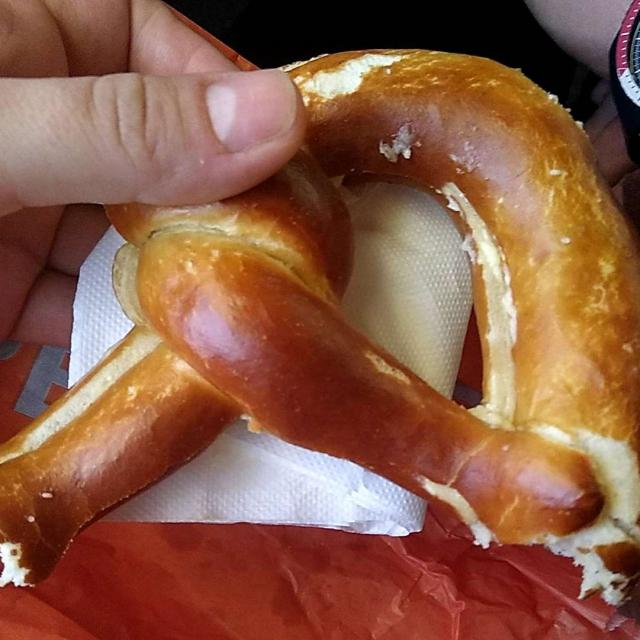lye-pretzel-soft: (2, 51, 630, 582)
